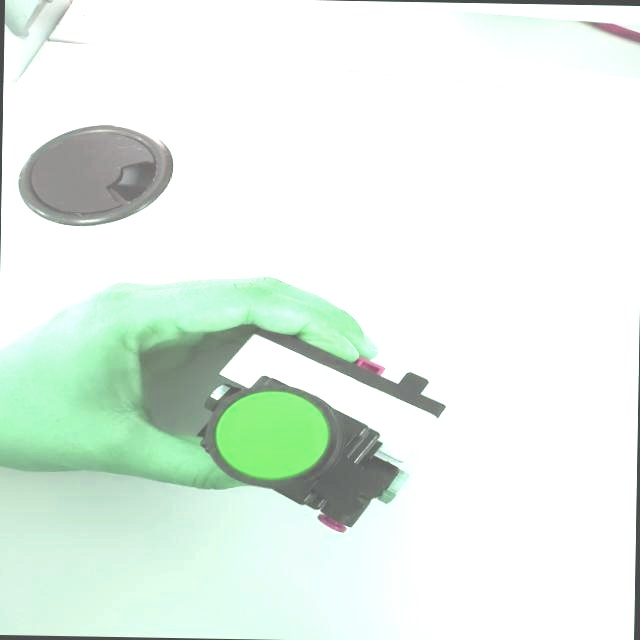push button: (179, 328, 457, 542)
